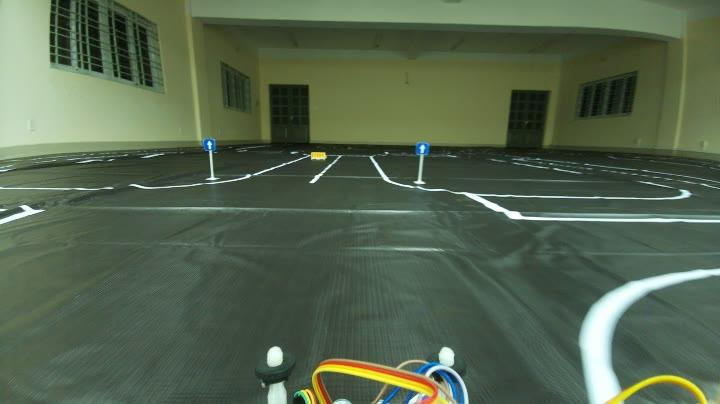onewayroad: (204, 138, 217, 154), (417, 142, 429, 158)
roadblock: (308, 151, 328, 161)
